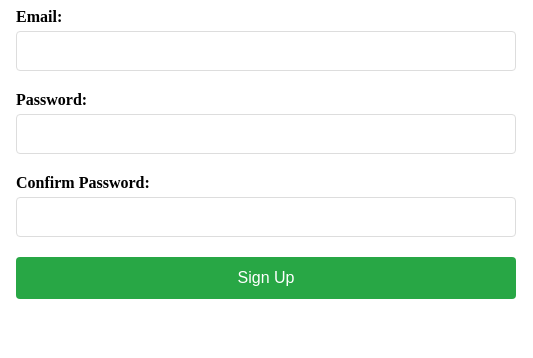
Scenario: Form Component › Form Validation - Email › should show error when email is empty on submit
Click the button with test id "submit-button": coordinates (266, 278) [16,257,516,299]
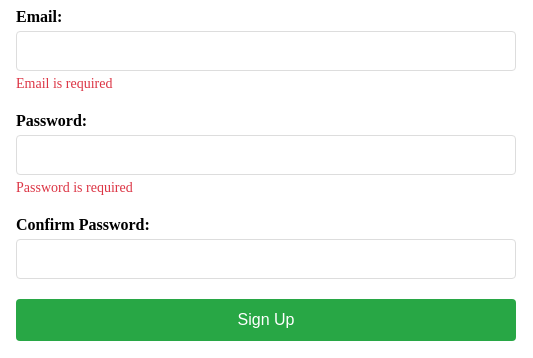
Now the text with test id "email-error" reads "Email is required", box [16,76,112,91]
